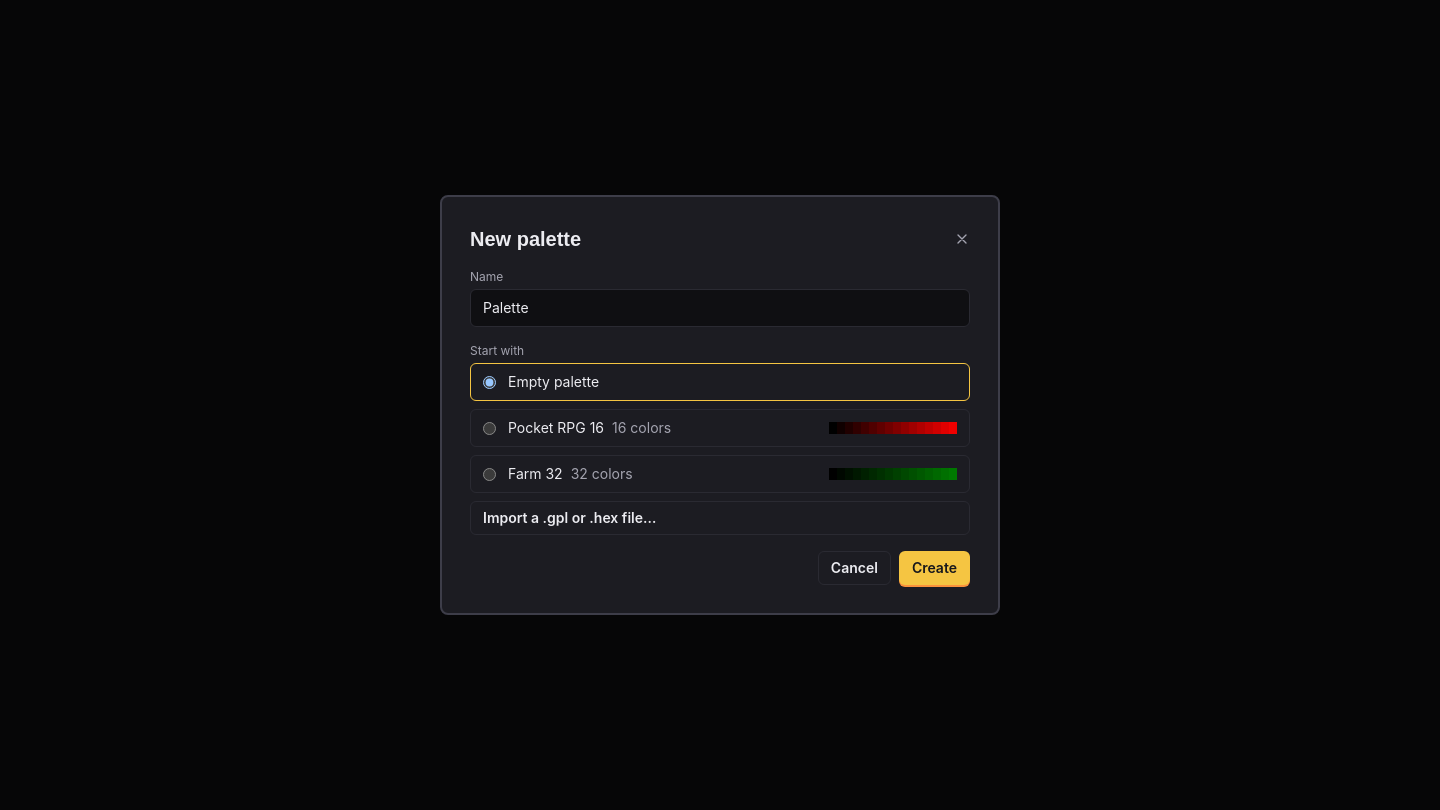
New palette dialog › imports a file chosen with the file picker
Later steps or results of the test are not shown.
Click the button "Import a .gpl or .hex file…" at (570, 518), box x1=470 y1=501 x2=970 y2=535
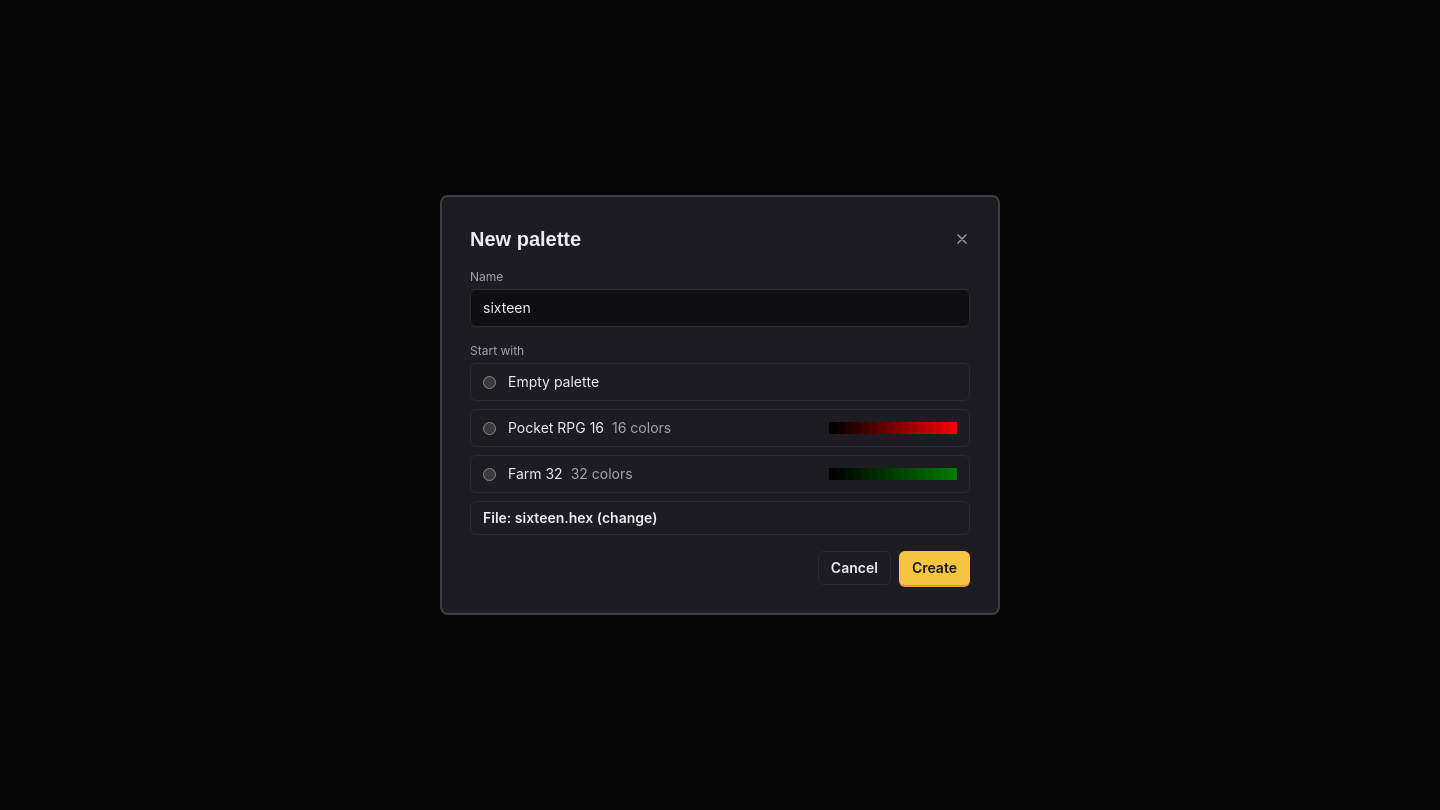
Result: the button "File: sixteen.hex (change)" is shown at x1=470 y1=501 x2=970 y2=535
Result: the field labelled "Name" holds "sixteen" at x1=470 y1=289 x2=970 y2=327
